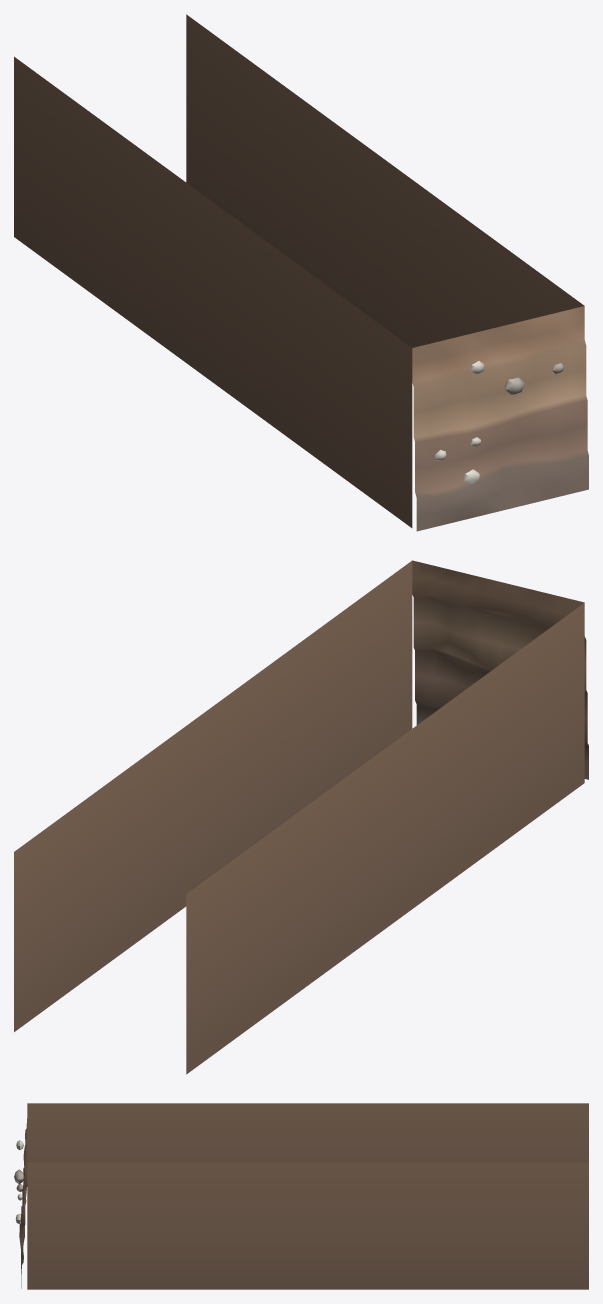
Rendered from ground_earth_2.glb.
3 views of the same model, one above another, from view 1: azimuth 30°, elevation 25°; view 2: azimuth 150°, elevation 25°; view 3: azimuth 270°, elevation 25° (orthographic). The views are drawn at different scales.
Visible parts, largest first — view 1: ground_earth_2; view 2: ground_earth_2; view 3: ground_earth_2.
Part boxes in pixels (left/top/right/bottom): ground_earth_2: left=14, top=14, right=588, bottom=531; ground_earth_2: left=14, top=560, right=588, bottom=1074; ground_earth_2: left=14, top=1103, right=588, bottom=1289.
Size of the model in its own units: 1 by 1 by 4.1.
